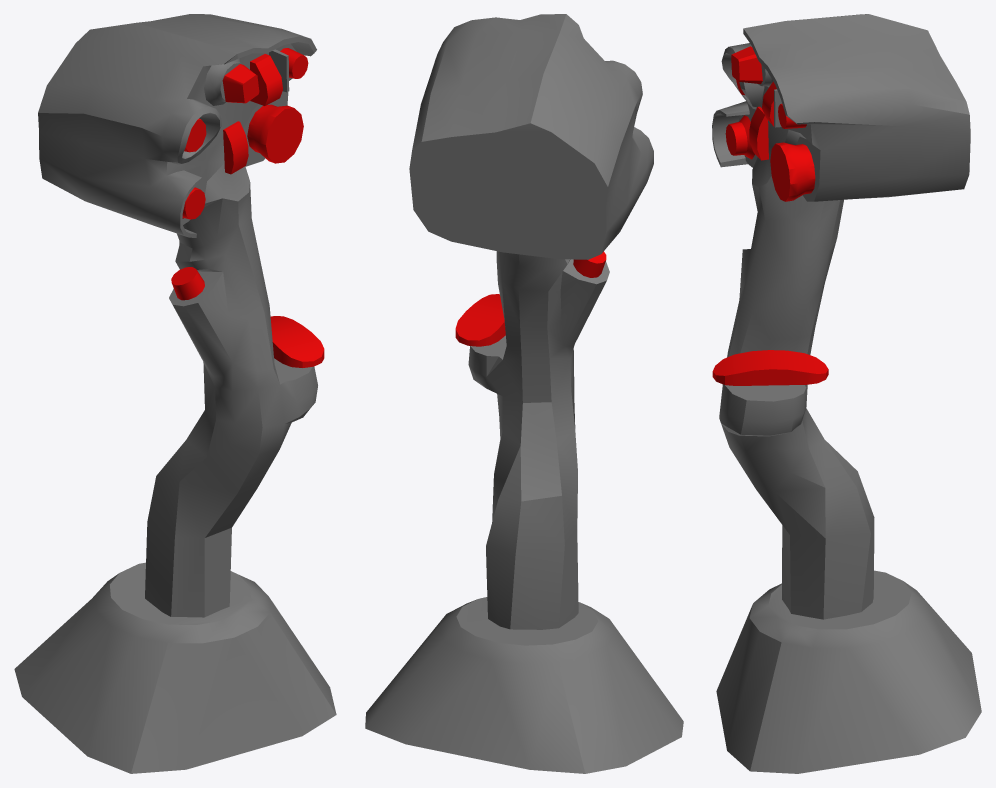
The model's file is F22 Stick.fbx.
3 renders of one model, left to right at view 1: azimuth 30°, elevation 25°; view 2: azimuth 150°, elevation 25°; view 3: azimuth 270°, elevation 25°, orthographic.
Parts seen in each view (by area): view 1: polySurface25, polySurface19, polySurface20, polySurface18, polySurface29, polySurface22, polySurface21, polySurface24; view 2: polySurface25, polySurface19, polySurface18, polySurface24; view 3: polySurface25, polySurface19, polySurface18, polySurface20, polySurface22, polySurface27, polySurface21.
Part boxes in pixels (bbox=[...]): polySurface25: bbox=[38, 14, 317, 617]; polySurface19: bbox=[14, 562, 336, 773]; polySurface20: bbox=[247, 104, 303, 163]; polySurface18: bbox=[270, 316, 324, 367]; polySurface29: bbox=[250, 54, 282, 105]; polySurface22: bbox=[222, 64, 259, 103]; polySurface21: bbox=[223, 121, 248, 174]; polySurface24: bbox=[171, 267, 204, 300]; polySurface25: bbox=[409, 14, 653, 629]; polySurface19: bbox=[365, 597, 683, 773]; polySurface18: bbox=[455, 294, 505, 346]; polySurface24: bbox=[573, 251, 606, 277]; polySurface25: bbox=[712, 14, 970, 619]; polySurface19: bbox=[716, 570, 981, 773]; polySurface18: bbox=[712, 350, 828, 385]; polySurface20: bbox=[770, 142, 815, 201]; polySurface22: bbox=[731, 46, 762, 84]; polySurface27: bbox=[725, 115, 754, 159]; polySurface21: bbox=[749, 106, 768, 160].
Bounding box in the file's own units: 0.3146 × 0.806 × 0.2835.
